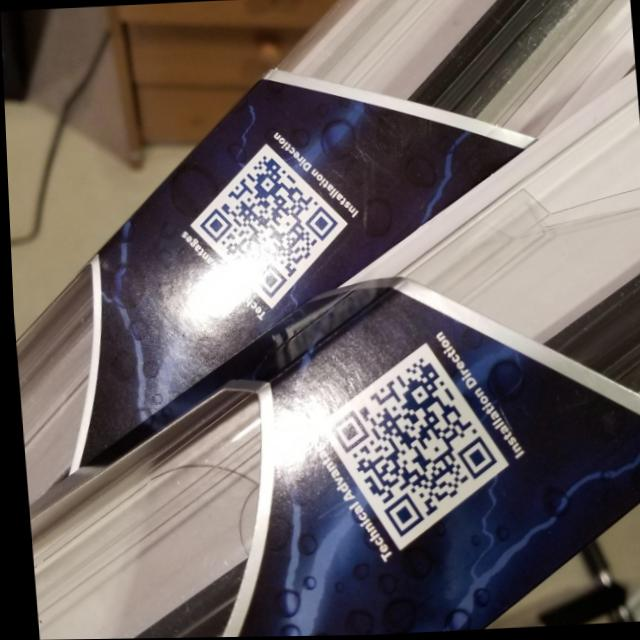QR_CODE: (298, 324, 518, 551), (183, 139, 351, 313)
